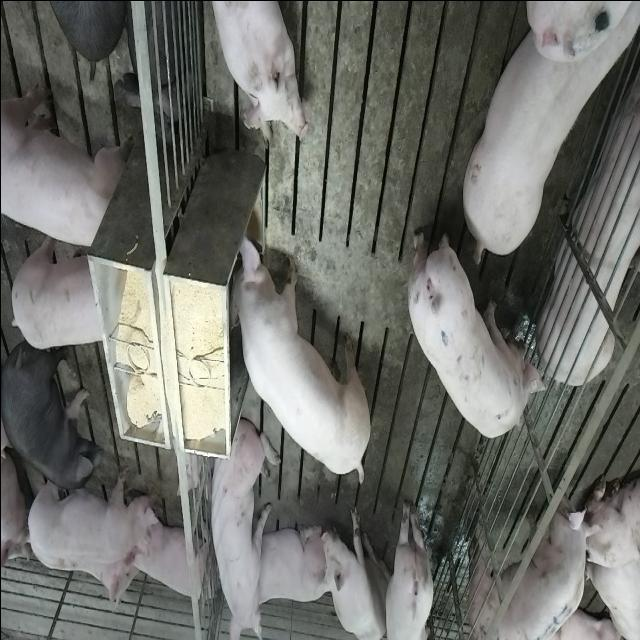Feeding: (221, 229, 367, 482)
Sitting: (204, 412, 273, 636), (319, 502, 386, 640)
Standing: (457, 7, 635, 268), (406, 218, 548, 438), (1, 75, 125, 252), (468, 502, 596, 638), (2, 337, 106, 501), (22, 463, 160, 568), (8, 229, 109, 352), (382, 495, 436, 638)
Sternal_lying: (540, 58, 640, 384), (205, 0, 305, 141), (132, 506, 214, 606), (248, 520, 329, 606), (78, 536, 138, 616)
